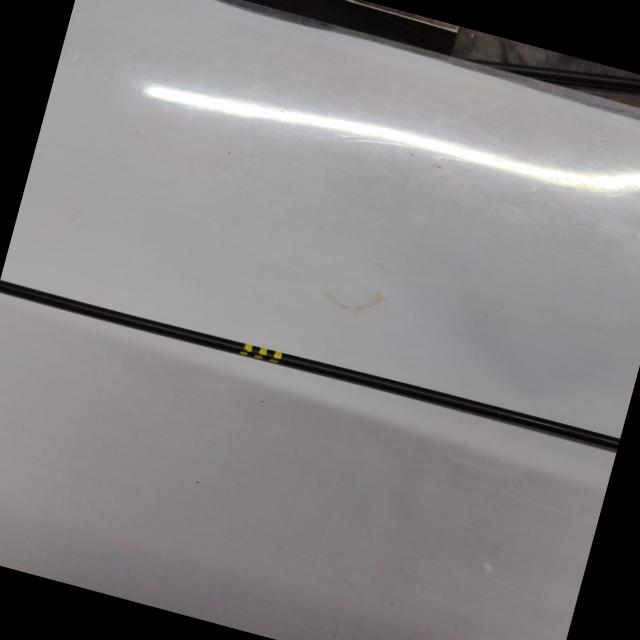yellow: (239, 344, 283, 365)
